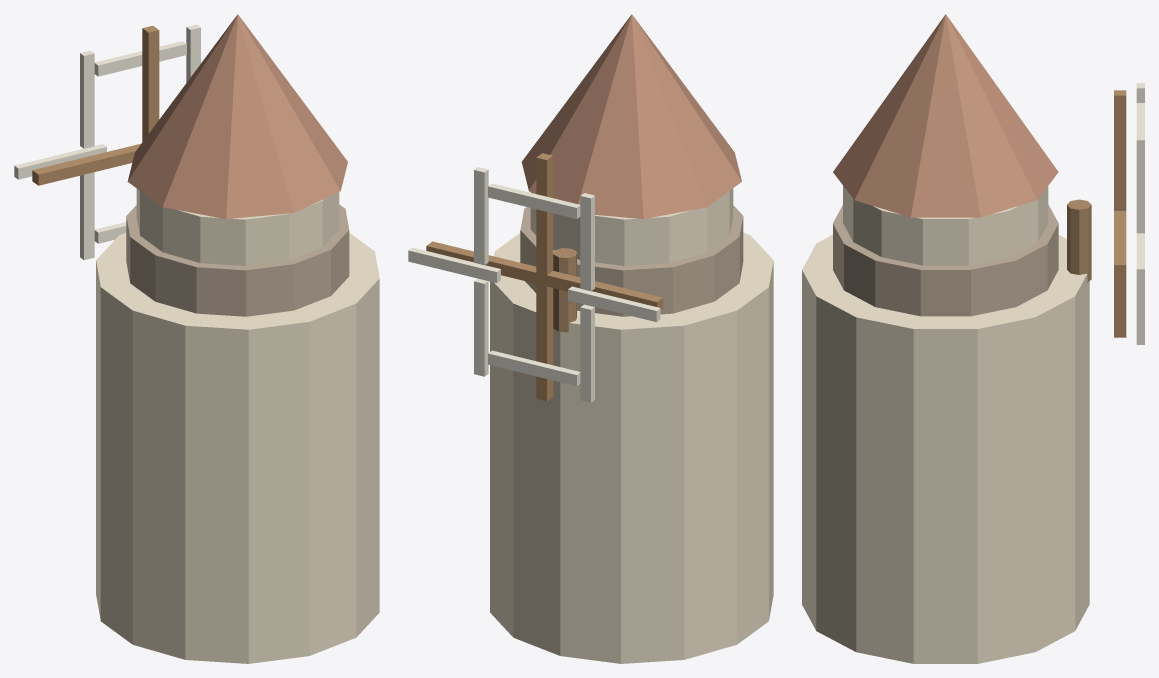
Rendered from windmill.glb.
The picture shows the model from 3 angles, left to right: view 1: azimuth 30°, elevation 25°; view 2: azimuth 150°, elevation 25°; view 3: azimuth 270°, elevation 25°; orthographic projection.
Parts seen in each view (by area): view 1: windmill_root; view 2: windmill_root; view 3: windmill_root.
Part boxes in pixels (<box>): windmill_root: <box>14,14,379,663</box>; windmill_root: <box>408,14,773,663</box>; windmill_root: <box>802,14,1144,663</box>.
Bounding box in the file's own units: 2.65 × 6 × 3.16.
